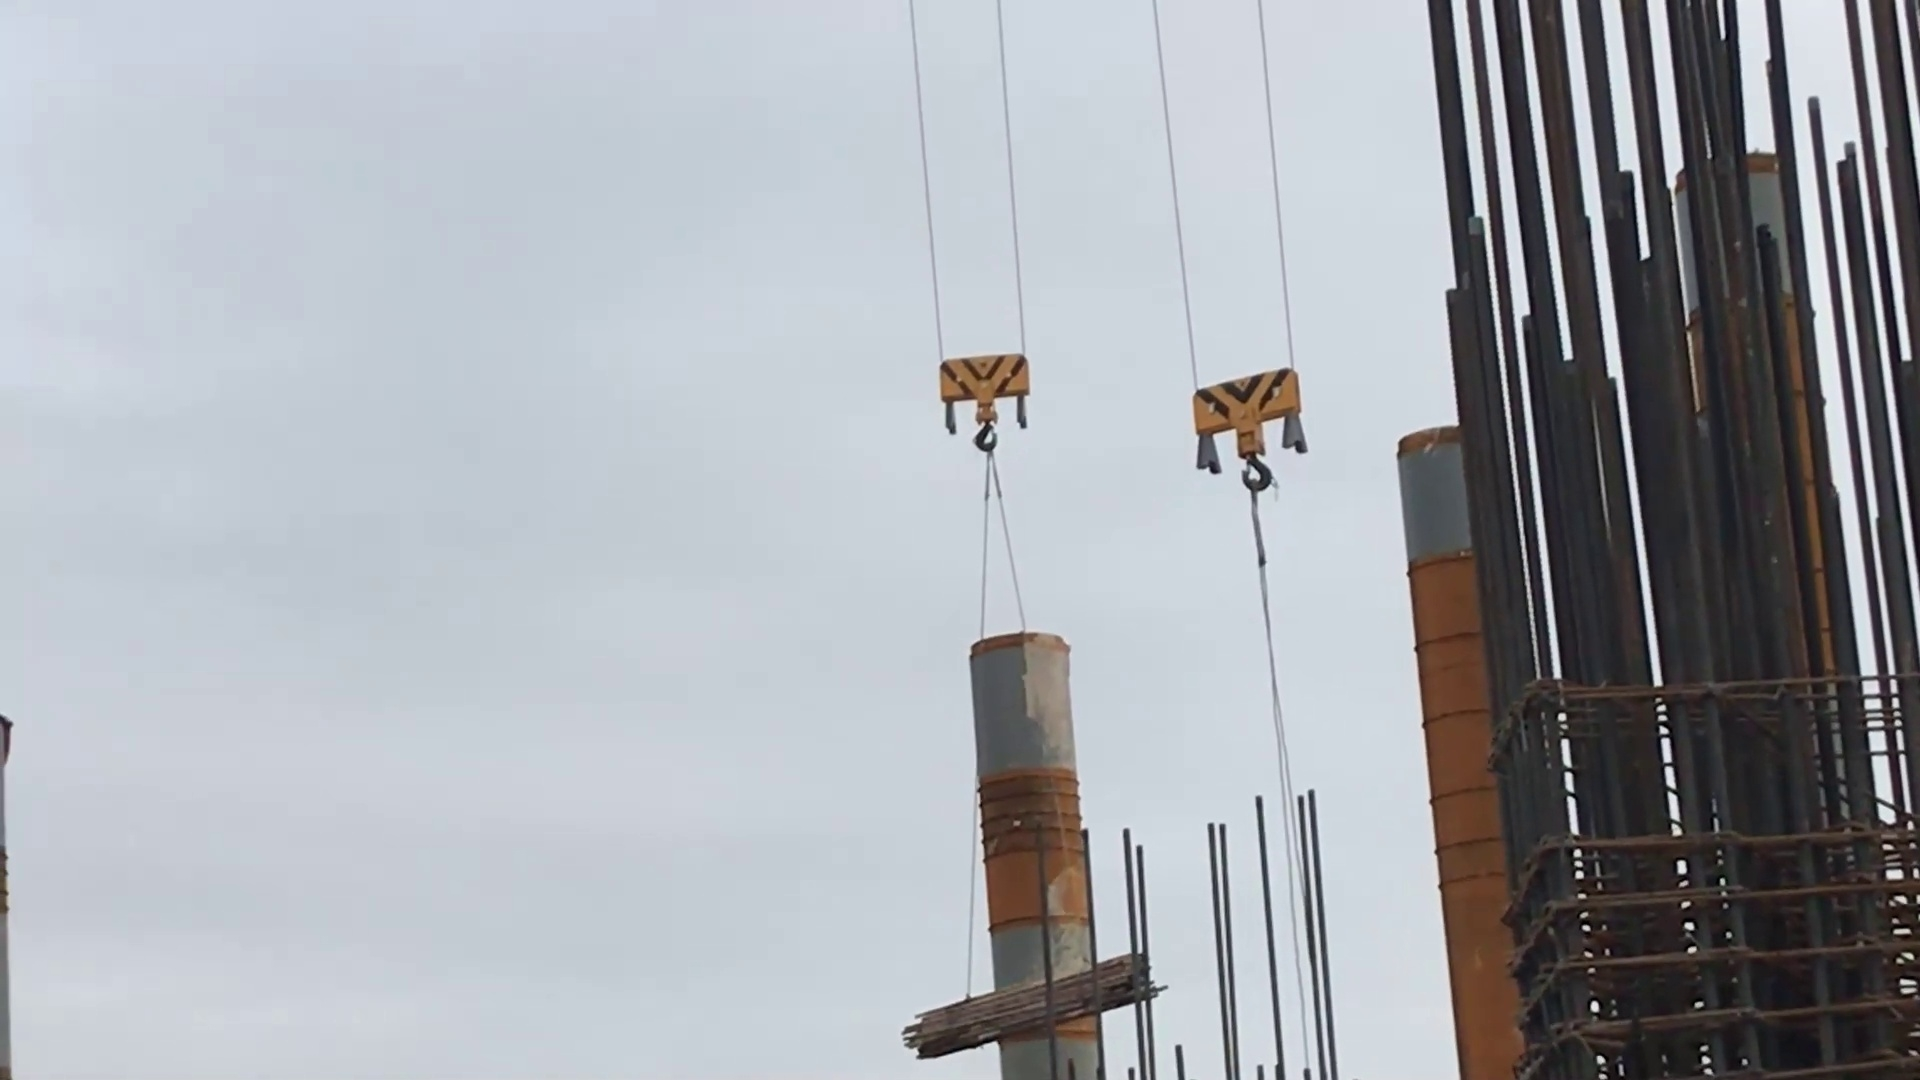hook: (1191, 353, 1313, 495), (938, 342, 1033, 458)
